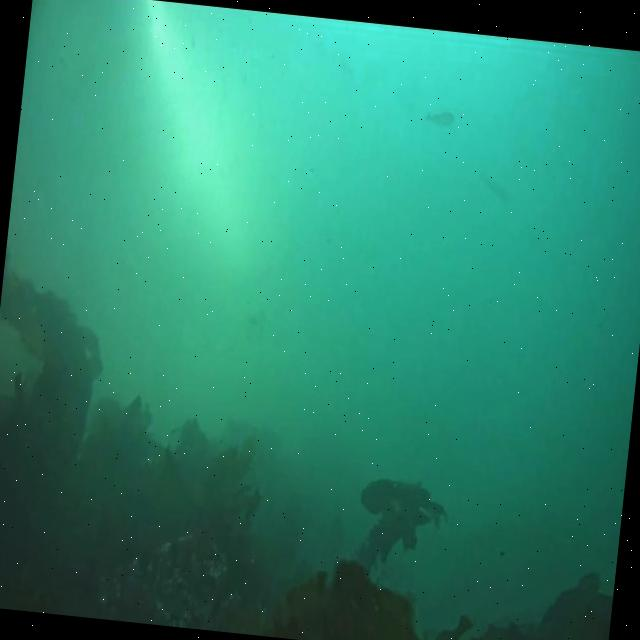fish: (422, 104, 454, 128)
